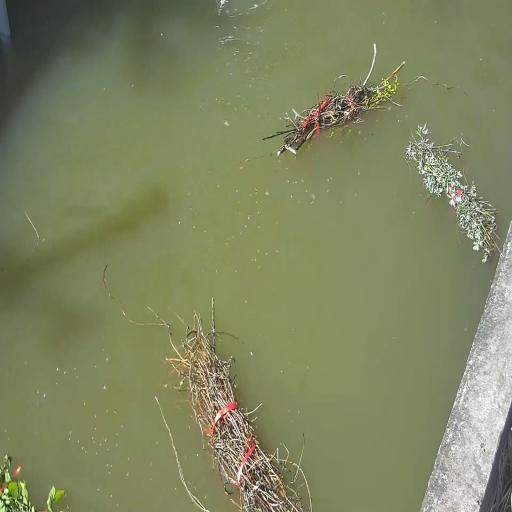twig: (169, 298, 307, 512), (263, 45, 405, 155), (406, 125, 498, 262), (0, 454, 65, 512)
